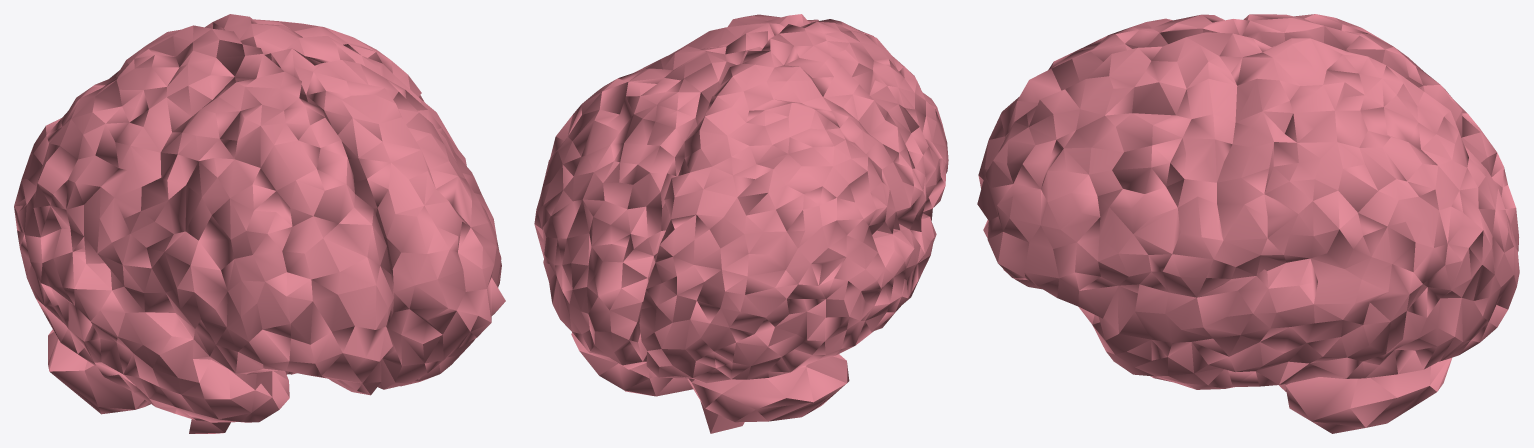
The model's file is brain.glb.
3 renders of one model, left to right at view 1: azimuth 30°, elevation 25°; view 2: azimuth 150°, elevation 25°; view 3: azimuth 270°, elevation 25°, orthographic. The views are drawn at different scales.
Parts seen in each view (by area): view 1: Brain_Part_06, Brain_Part_04, Brain_Part_02, Brain_Part_05; view 2: Brain_Part_06, Brain_Part_04, Brain_Part_02, Brain_Part_05; view 3: Brain_Part_04, Brain_Part_06, Brain_Part_02.
Part boxes in pixels (left/top/right/bottom): Brain_Part_06: left=14, top=25, right=393, bottom=422; Brain_Part_04: left=205, top=14, right=505, bottom=389; Brain_Part_02: left=48, top=329, right=296, bottom=414; Brain_Part_05: left=189, top=371, right=289, bottom=433; Brain_Part_06: left=639, top=19, right=948, bottom=383; Brain_Part_04: left=534, top=14, right=818, bottom=369; Brain_Part_02: left=571, top=332, right=849, bottom=422; Brain_Part_05: left=700, top=401, right=744, bottom=433; Brain_Part_04: left=977, top=32, right=1519, bottom=389; Brain_Part_06: left=978, top=14, right=1519, bottom=251; Brain_Part_02: left=1285, top=358, right=1451, bottom=433.
Bounding box in the file's own units: 3.76 × 3.92 × 4.73.
